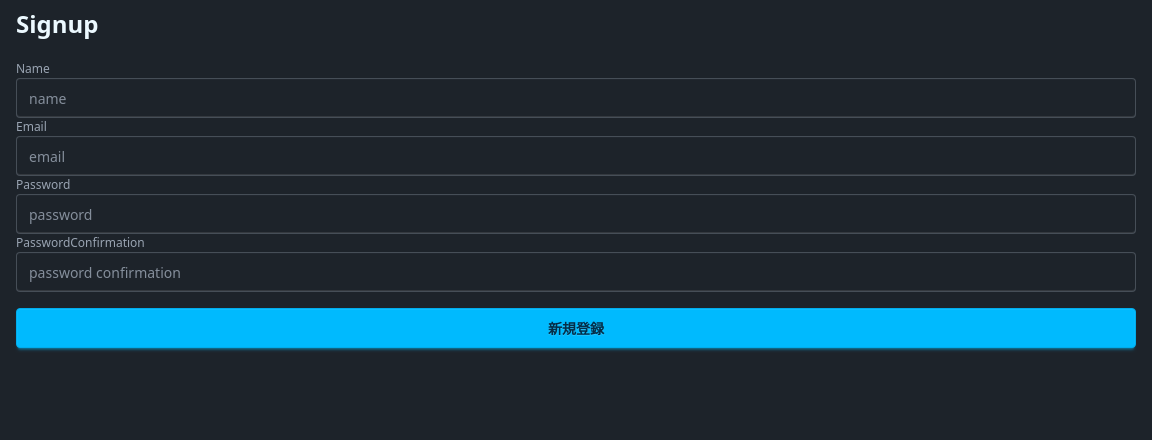
SignupForm.tsx › フォームのUI › バリデーション › 最低文字数
This screenshot has width=1152, height=440.
Note: パスワードを最低文字数未満で入力し、フォーム送信
In the password field with test id "signup-password-input": (576, 214) left=16, top=194, right=1136, bottom=234, type "a"
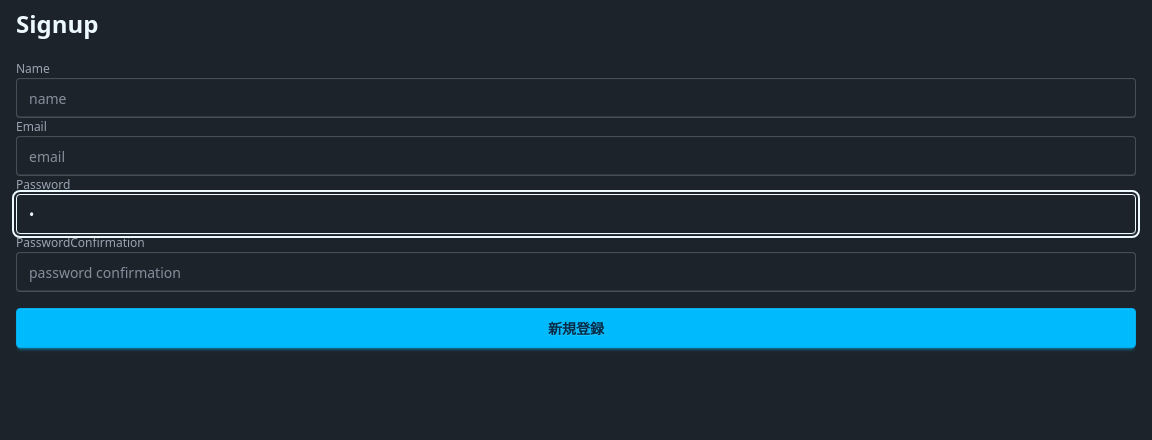
In the password field with test id "signup-password-confirmation-input": (576, 272) left=16, top=252, right=1136, bottom=292, type "a"
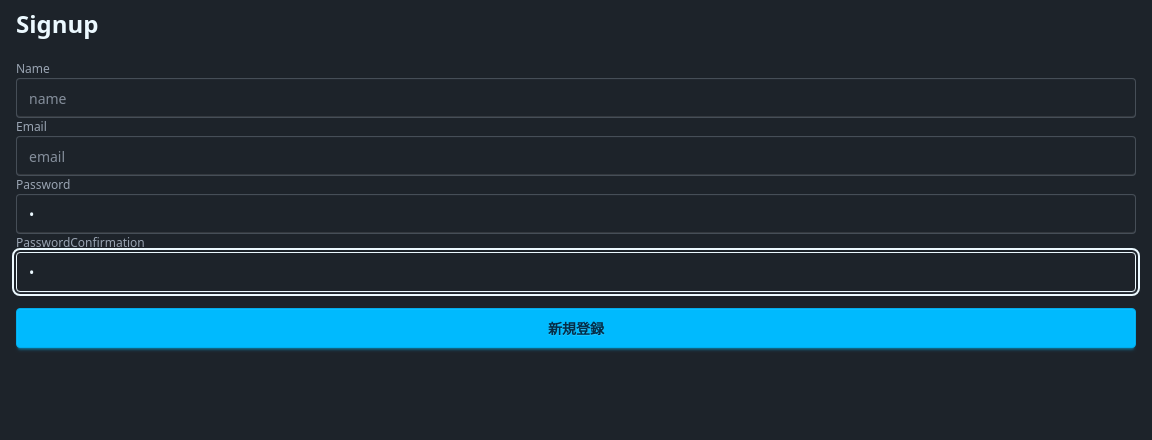
Click the button "新規登録": (576, 328) left=16, top=308, right=1136, bottom=348
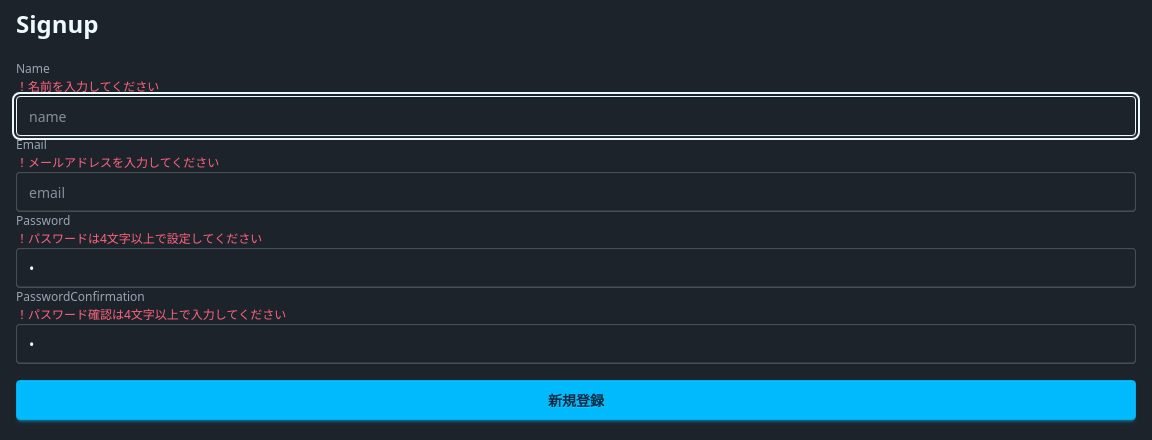
Check: the text "！パスワードは4文字以上で設定してください" is shown, box left=16, top=230, right=262, bottom=247
Check: the text "！パスワード確認は4文字以上で入力してください" is shown, box left=16, top=306, right=286, bottom=323
